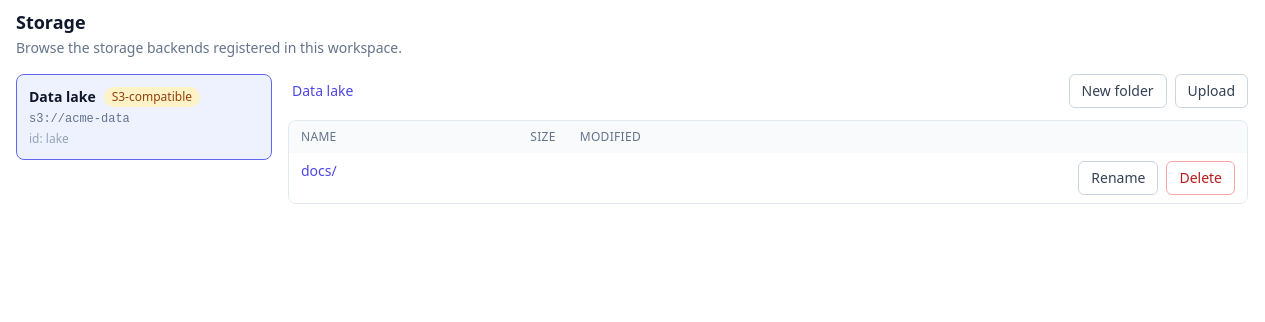
Test case: renaming › renames a file within its folder and refreshes
The image size is (1265, 322).
Step 1. Click the button with aria-label "Open folder docs" → (319, 171), box [301,161,337,181]
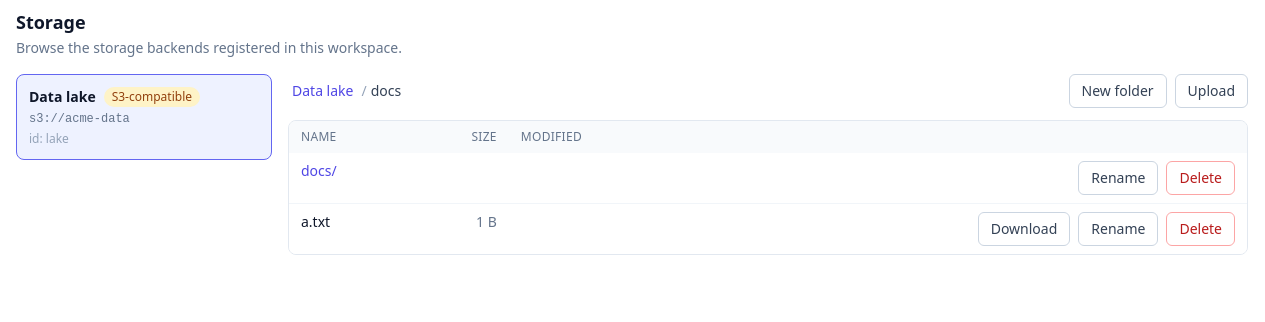
Expected: the text "a.txt" is shown, [301,212,330,231]
Step 2. Click the button with aria-label "Rename a.txt" → (1118, 229), box [1078,212,1158,246]
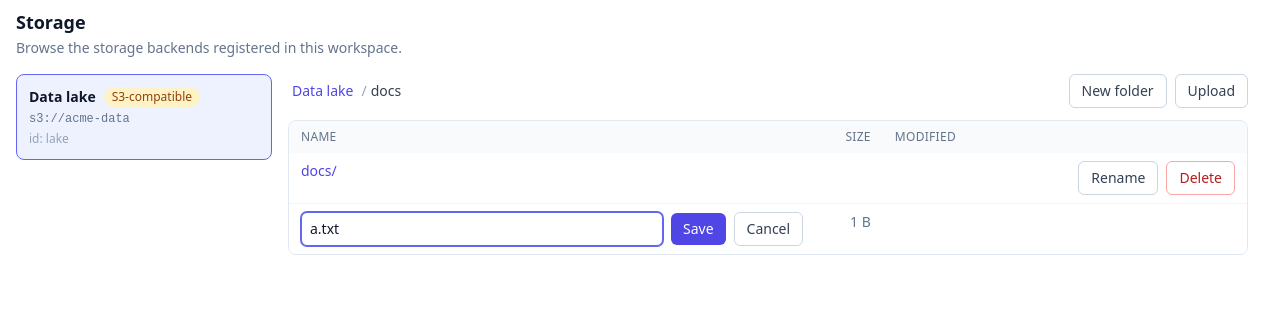
Expected: the field named "New name for a.txt" holds "a.txt"
Step 3. Replace the text in the field named "New name for a.txt" with "b.txt" → (482, 229), box [301,212,663,246]
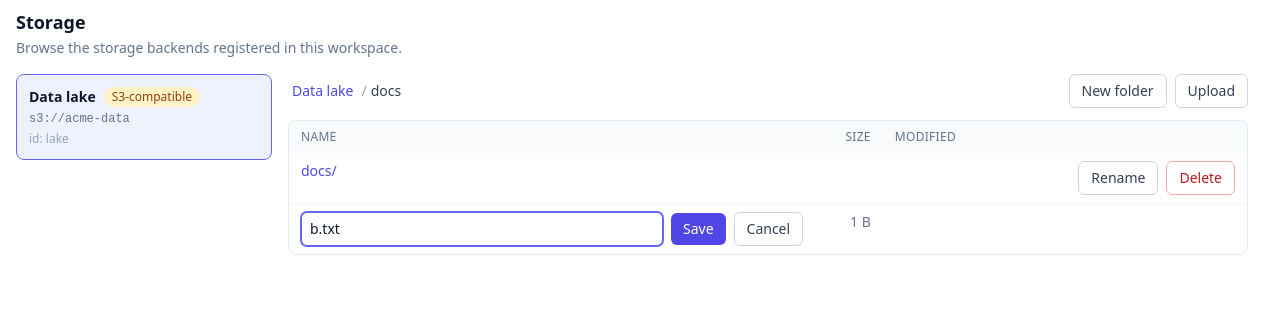
Step 4. Click the button "Save" → (698, 229), box [671,213,726,245]
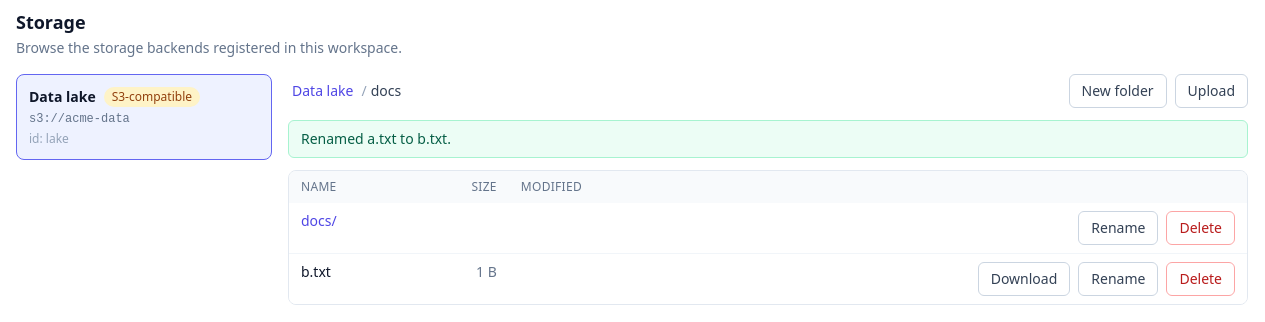
Expected: the text "b.txt" is shown, [301,262,331,281]
Expected: the text "Renamed a.txt to b.txt." is shown, [288,120,1248,158]
